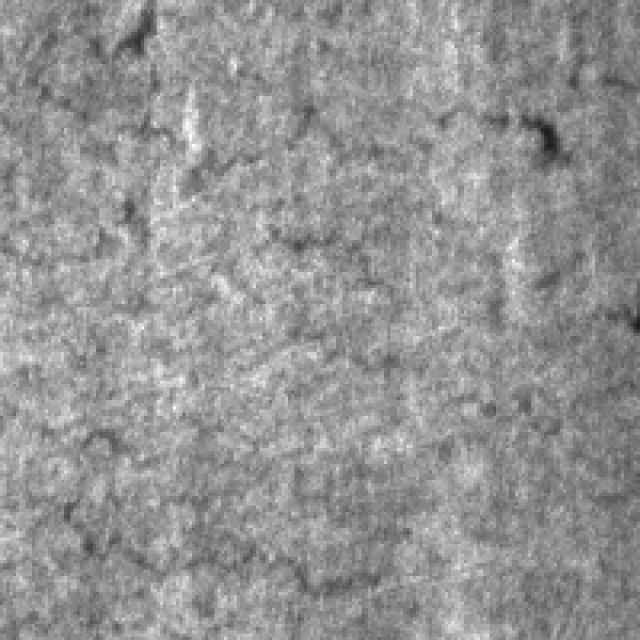crazing: (0, 64, 486, 240), (55, 413, 388, 592), (416, 51, 618, 336)
